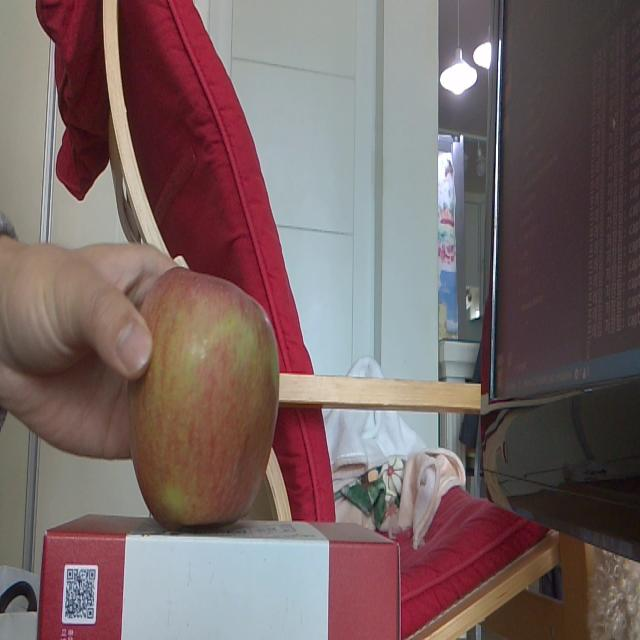apple: (128, 265, 280, 525)
